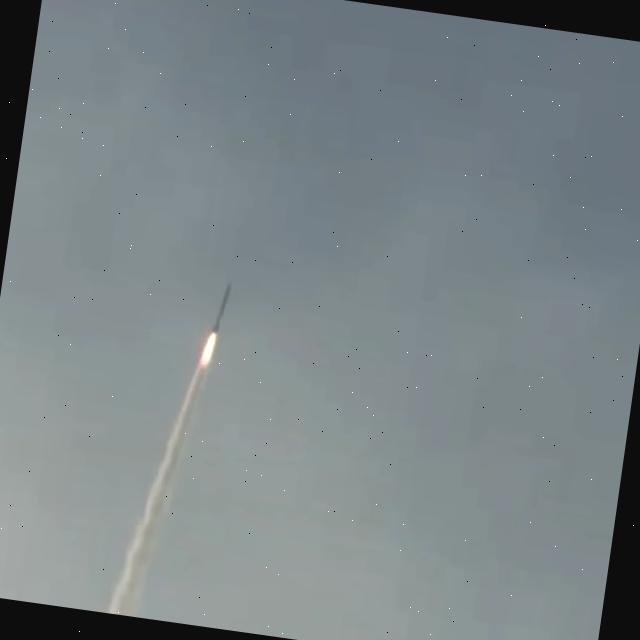smoke_trail_with_rocket: (104, 284, 230, 617)
